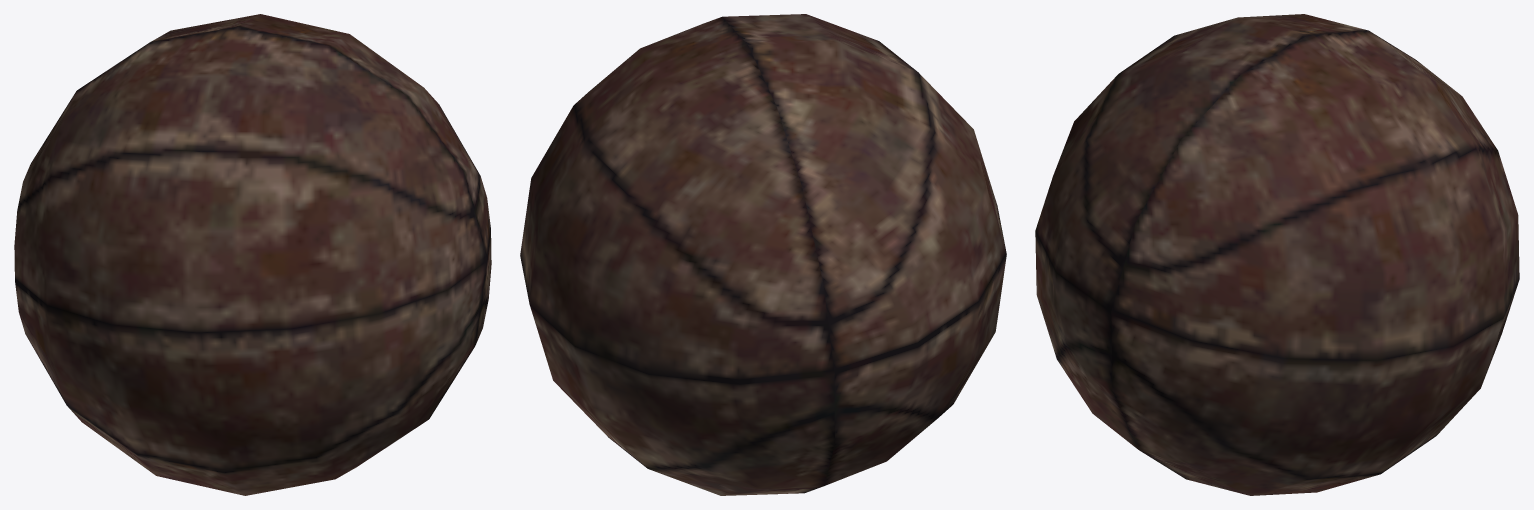
File: BasketBall.fbx
3 renders of one model, left to right at view 1: azimuth 30°, elevation 25°; view 2: azimuth 150°, elevation 25°; view 3: azimuth 270°, elevation 25°, orthographic.
Parts seen in each view (by area): view 1: mesh_3_88.nr; view 2: mesh_3_88.nr; view 3: mesh_3_88.nr.
Part boxes in pixels (x1,y1,x2,y2): mesh_3_88.nr: (14,14,491,495); mesh_3_88.nr: (520,14,1006,495); mesh_3_88.nr: (1035,14,1519,495).
Size of the model in its own units: 24.37 by 24.19 by 24.18.
